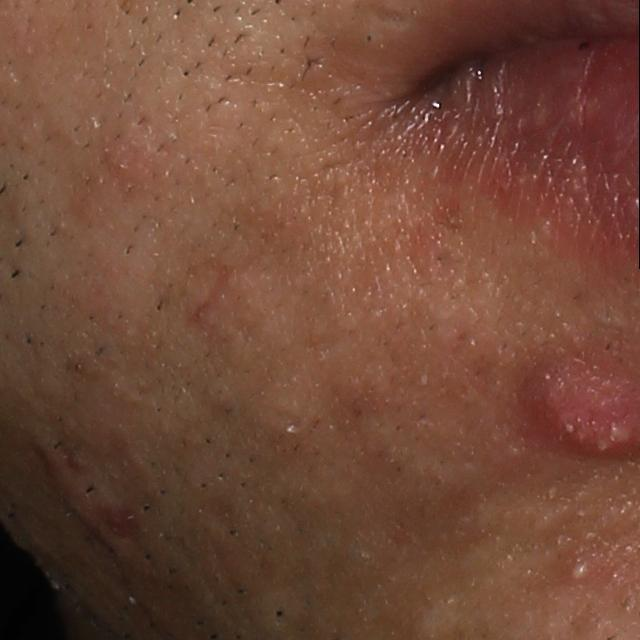hypertrophic_scar: (38, 433, 151, 523)
papule: (98, 122, 171, 190)
pustule: (557, 545, 606, 589)
